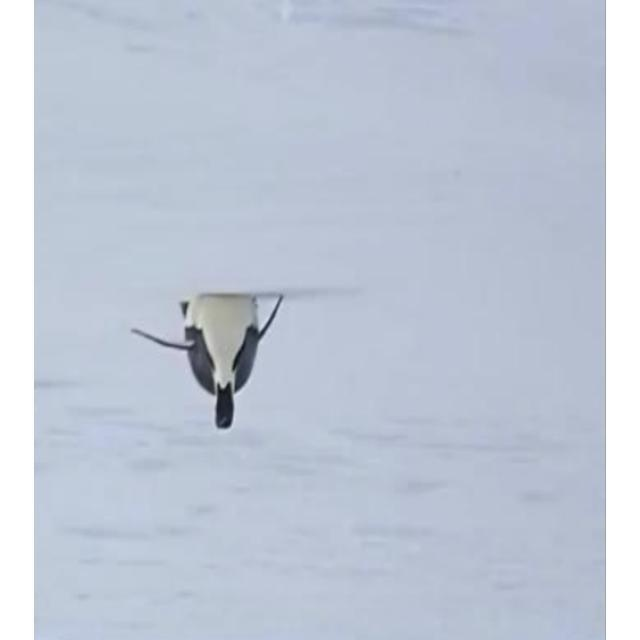penguin: (129, 293, 283, 428)
